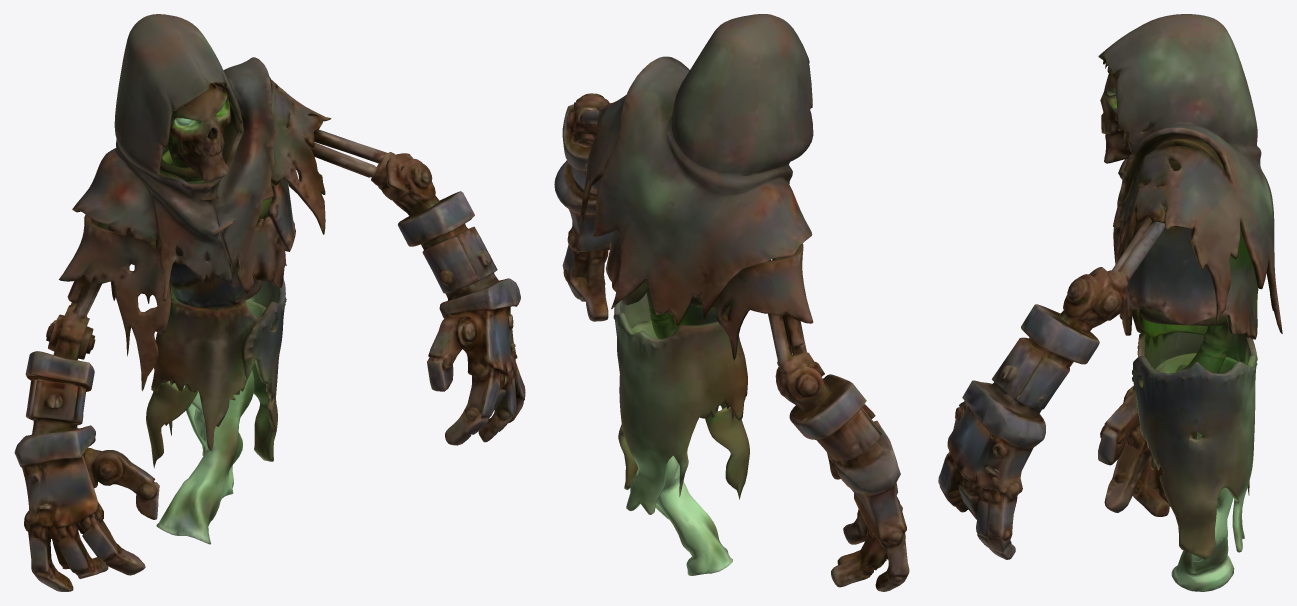
Rendered from undead-ZHllkdkc.glb.
The picture shows the model from 3 angles, left to right: view 1: azimuth 30°, elevation 25°; view 2: azimuth 150°, elevation 25°; view 3: azimuth 270°, elevation 25°; orthographic projection. The views are drawn at different scales.
Visible parts, largest first — view 1: material; view 2: material; view 3: material.
Boxes of the visible parts, bbox=[...] form: material: bbox=[14, 14, 525, 591]; material: bbox=[554, 14, 909, 591]; material: bbox=[938, 14, 1282, 591].
Size of the model in its own units: 0.7944 by 0.9751 by 0.5527.
1 material, 1 textured.
